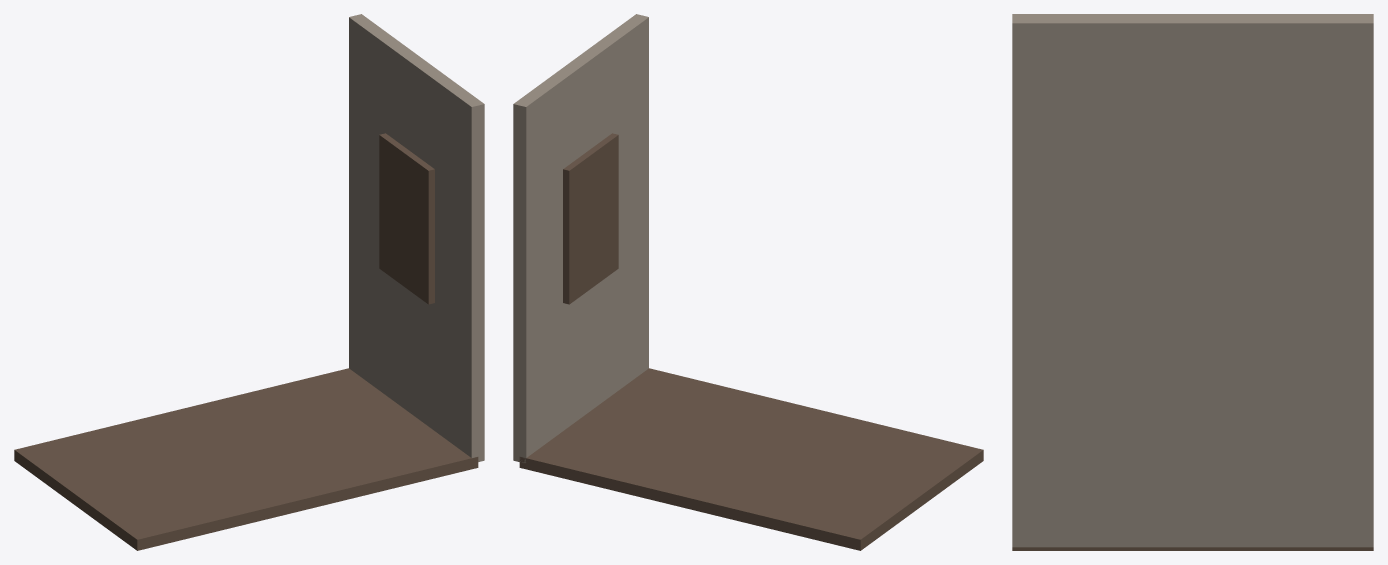
Rendered from hallway_deadend.fbx.
The picture shows the model from 3 angles, left to right: view 1: azimuth 30°, elevation 25°; view 2: azimuth 150°, elevation 25°; view 3: azimuth 270°, elevation 25°; orthographic projection. The views are drawn at different scales.
Visible parts, largest first — view 1: Floor, Wall_DeadEnd, BoardedWindow; view 2: Floor, Wall_DeadEnd, BoardedWindow; view 3: Wall_DeadEnd, Floor.
Boxes of the visible parts, x1,y1,x2,y2 form: Floor: [14, 368, 478, 550]; Wall_DeadEnd: [349, 14, 484, 461]; BoardedWindow: [379, 133, 434, 304]; Floor: [519, 368, 983, 550]; Wall_DeadEnd: [513, 14, 648, 462]; BoardedWindow: [563, 133, 618, 304]; Wall_DeadEnd: [1012, 14, 1373, 547]; Floor: [1012, 547, 1373, 550].
Size of the model in its own units: 16.3 by 16.25 by 10.
